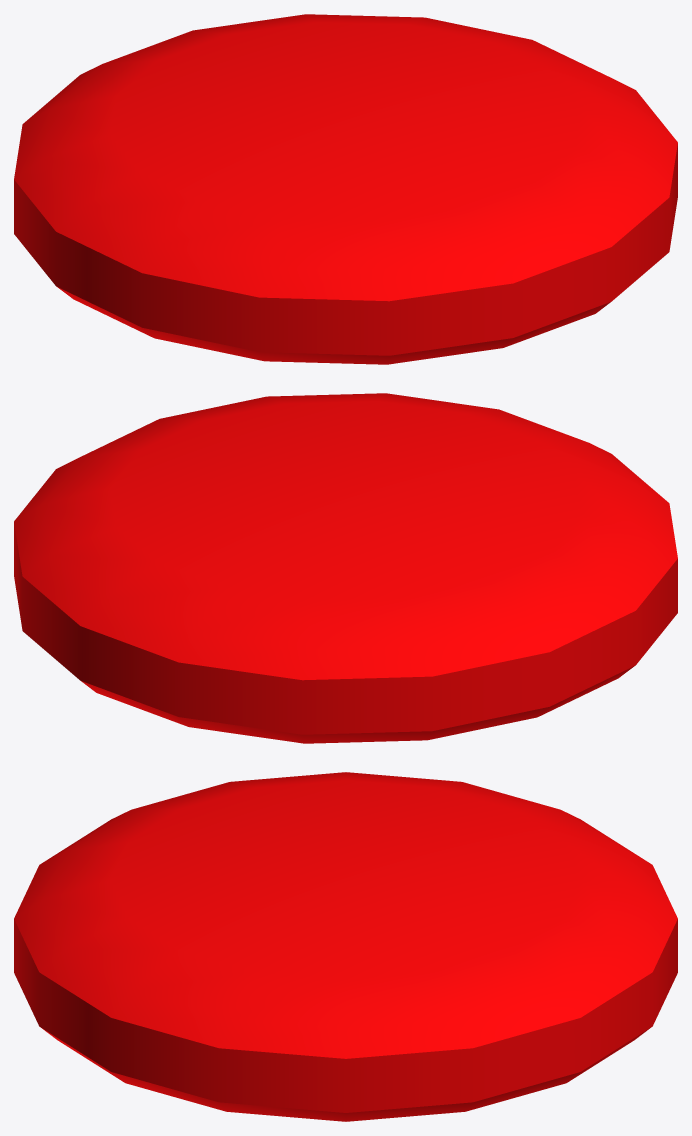
The model's file is MeatPatty.fbx.
The picture shows the model from 3 angles, top to bottom: view 1: azimuth 30°, elevation 25°; view 2: azimuth 150°, elevation 25°; view 3: azimuth 270°, elevation 25°; orthographic projection.
Parts seen in each view (by area): view 1: Cylinder; view 2: Cylinder; view 3: Cylinder.
Boxes of the visible parts, x1,y1,x2,y2 form: Cylinder: (14,14,677,364); Cylinder: (14,393,677,743); Cylinder: (14,772,677,1121).
Size of the model in its own units: 200 by 41.3 by 200.
